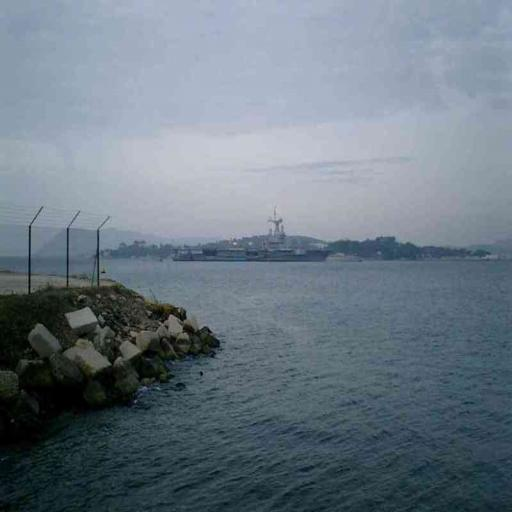Portanaves: (171, 204, 341, 266)
